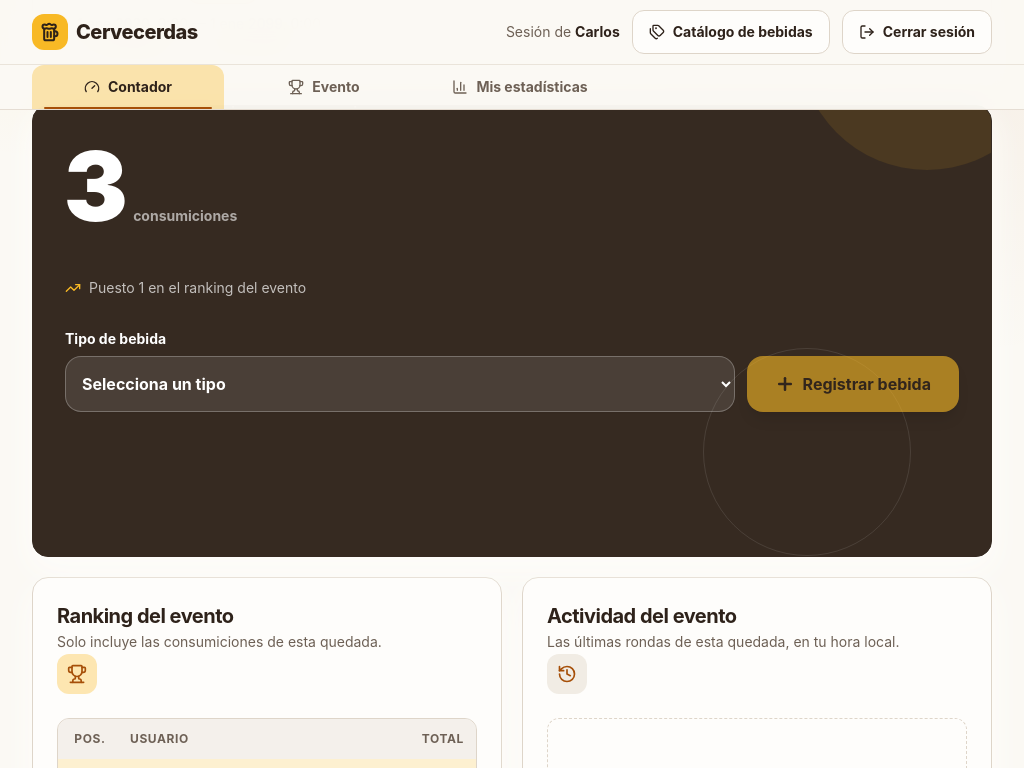
Test: Dashboard › registra una bebida en el evento y refresca su dashboard
(page scrolled)
Select "IPA" in the dropdown labelled "Tipo de bebida" at coordinates (400, 384), box [65, 356, 735, 412]
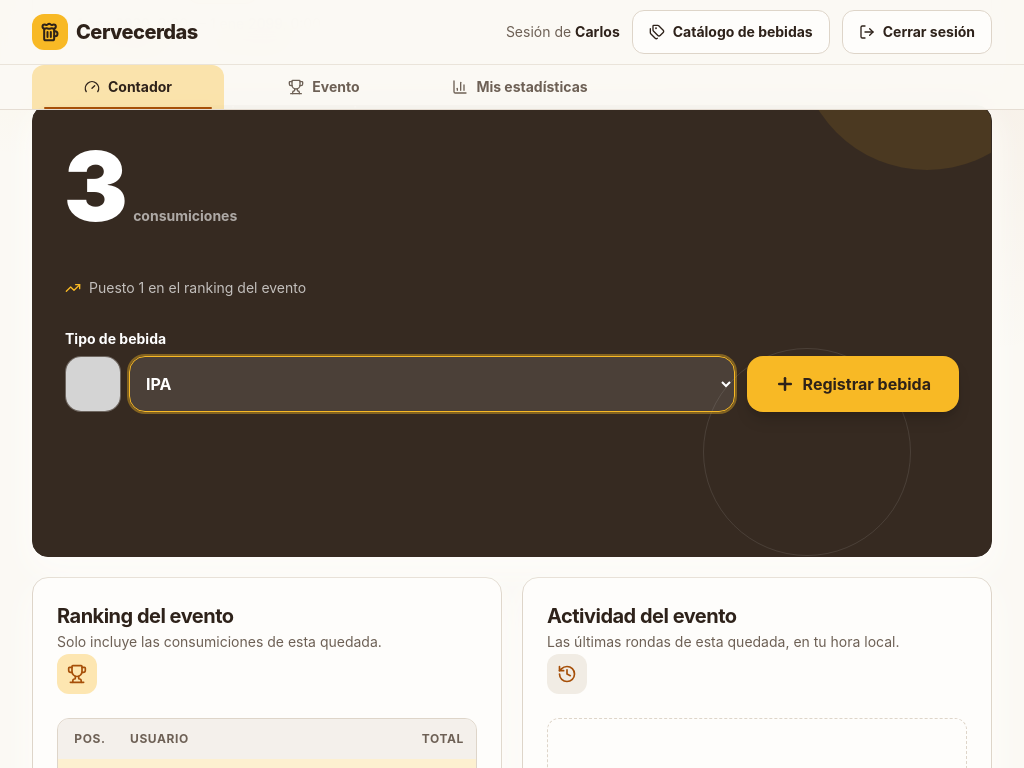
Click the button "Registrar bebida".
click(853, 384)  # box [747, 356, 959, 412]
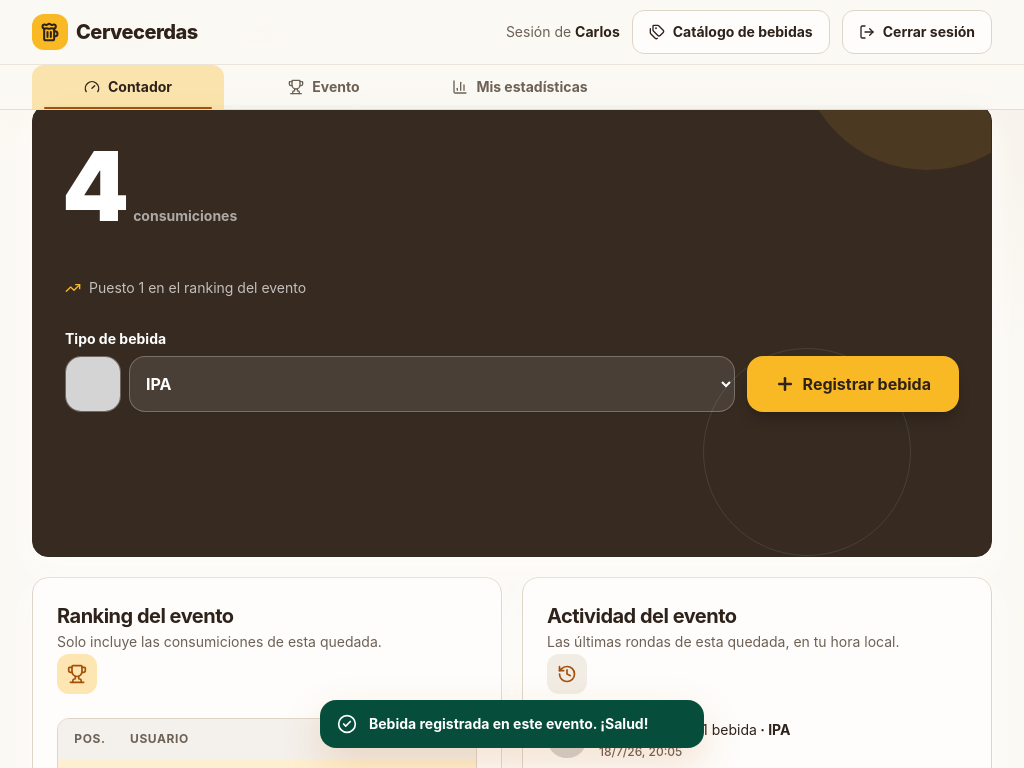
Check: the text "Bebida registrada en este evento. ¡Salud!" is shown, box [320, 700, 704, 748]
